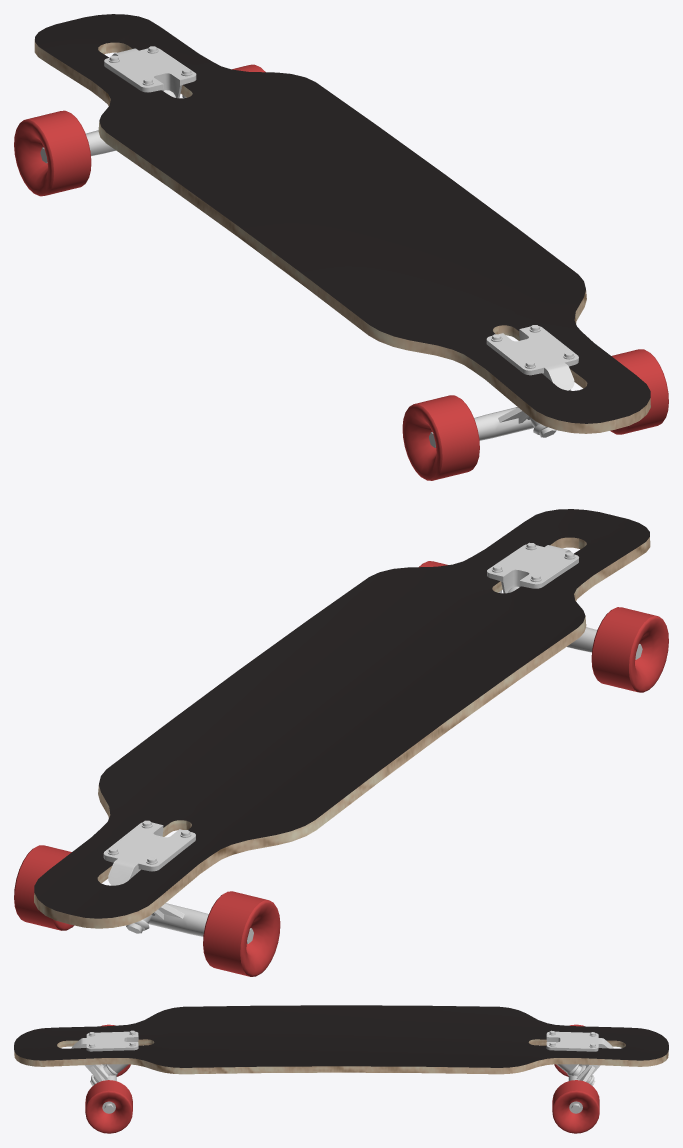
File: longboard.glb
The picture shows the model from 3 angles, top to bottom: view 1: azimuth 30°, elevation 25°; view 2: azimuth 150°, elevation 25°; view 3: azimuth 270°, elevation 25°; orthographic projection. The views are drawn at different scales.
Parts seen in each view (by area): view 1: board; view 2: board; view 3: board.
Boxes of the visible parts, x1,y1,x2,y2 form: board: [14, 14, 668, 480]; board: [14, 509, 668, 976]; board: [14, 1005, 668, 1133].
Size of the model in its own units: 1.2 by 0.5419 by 4.95.
1 material, 1 textured.
